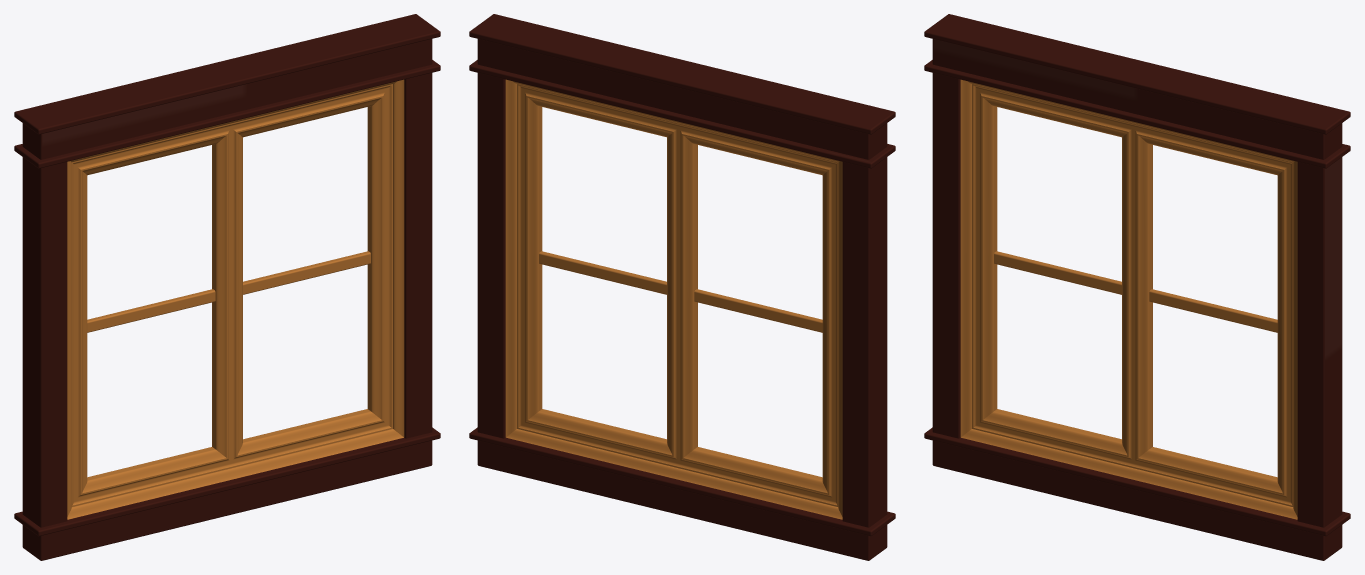
The model's file is Project Name.glb.
The picture shows the model from 3 angles, left to right: view 1: azimuth 30°, elevation 25°; view 2: azimuth 150°, elevation 25°; view 3: azimuth 330°, elevation 25°; orthographic projection.
Visible parts, largest first — view 1: External_Frame_Square, Internal_Frame_Square; view 2: External_Frame_Square, Internal_Frame_Square; view 3: External_Frame_Square, Internal_Frame_Square.
Boxes of the visible parts, x1=… form: External_Frame_Square: x1=14, y1=14, x2=440, y2=560; Internal_Frame_Square: x1=67, y1=79, x2=404, y2=519; External_Frame_Square: x1=469, y1=14, x2=895, y2=560; Internal_Frame_Square: x1=505, y1=79, x2=842, y2=519; External_Frame_Square: x1=924, y1=14, x2=1350, y2=560; Internal_Frame_Square: x1=960, y1=79, x2=1297, y2=519.
Bounding box in the file's own units: 0.0745 × 0.077 × 0.008.
Materials: 2 (1 with a texture image).
